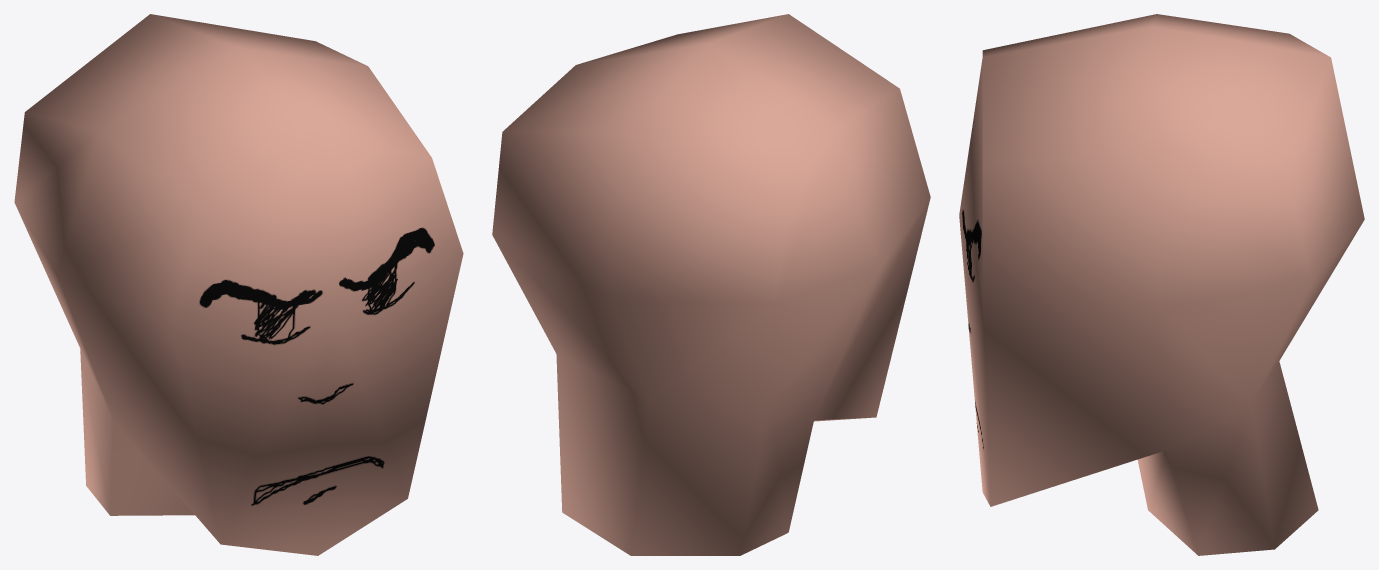
The picture shows the model from 3 angles, left to right: view 1: azimuth 30°, elevation 25°; view 2: azimuth 150°, elevation 25°; view 3: azimuth 270°, elevation 25°; orthographic projection. The views are drawn at different scales.
Visible parts, largest first — view 1: Head_Cube; view 2: Head_Cube; view 3: Head_Cube.
Part boxes in pixels (x1,y1,x2,y2): Head_Cube: (14, 14, 463, 555); Head_Cube: (492, 14, 930, 555); Head_Cube: (959, 14, 1364, 555).
Size of the model in its own units: 2.44 by 3.06 by 2.33.
1 material, 1 textured.
